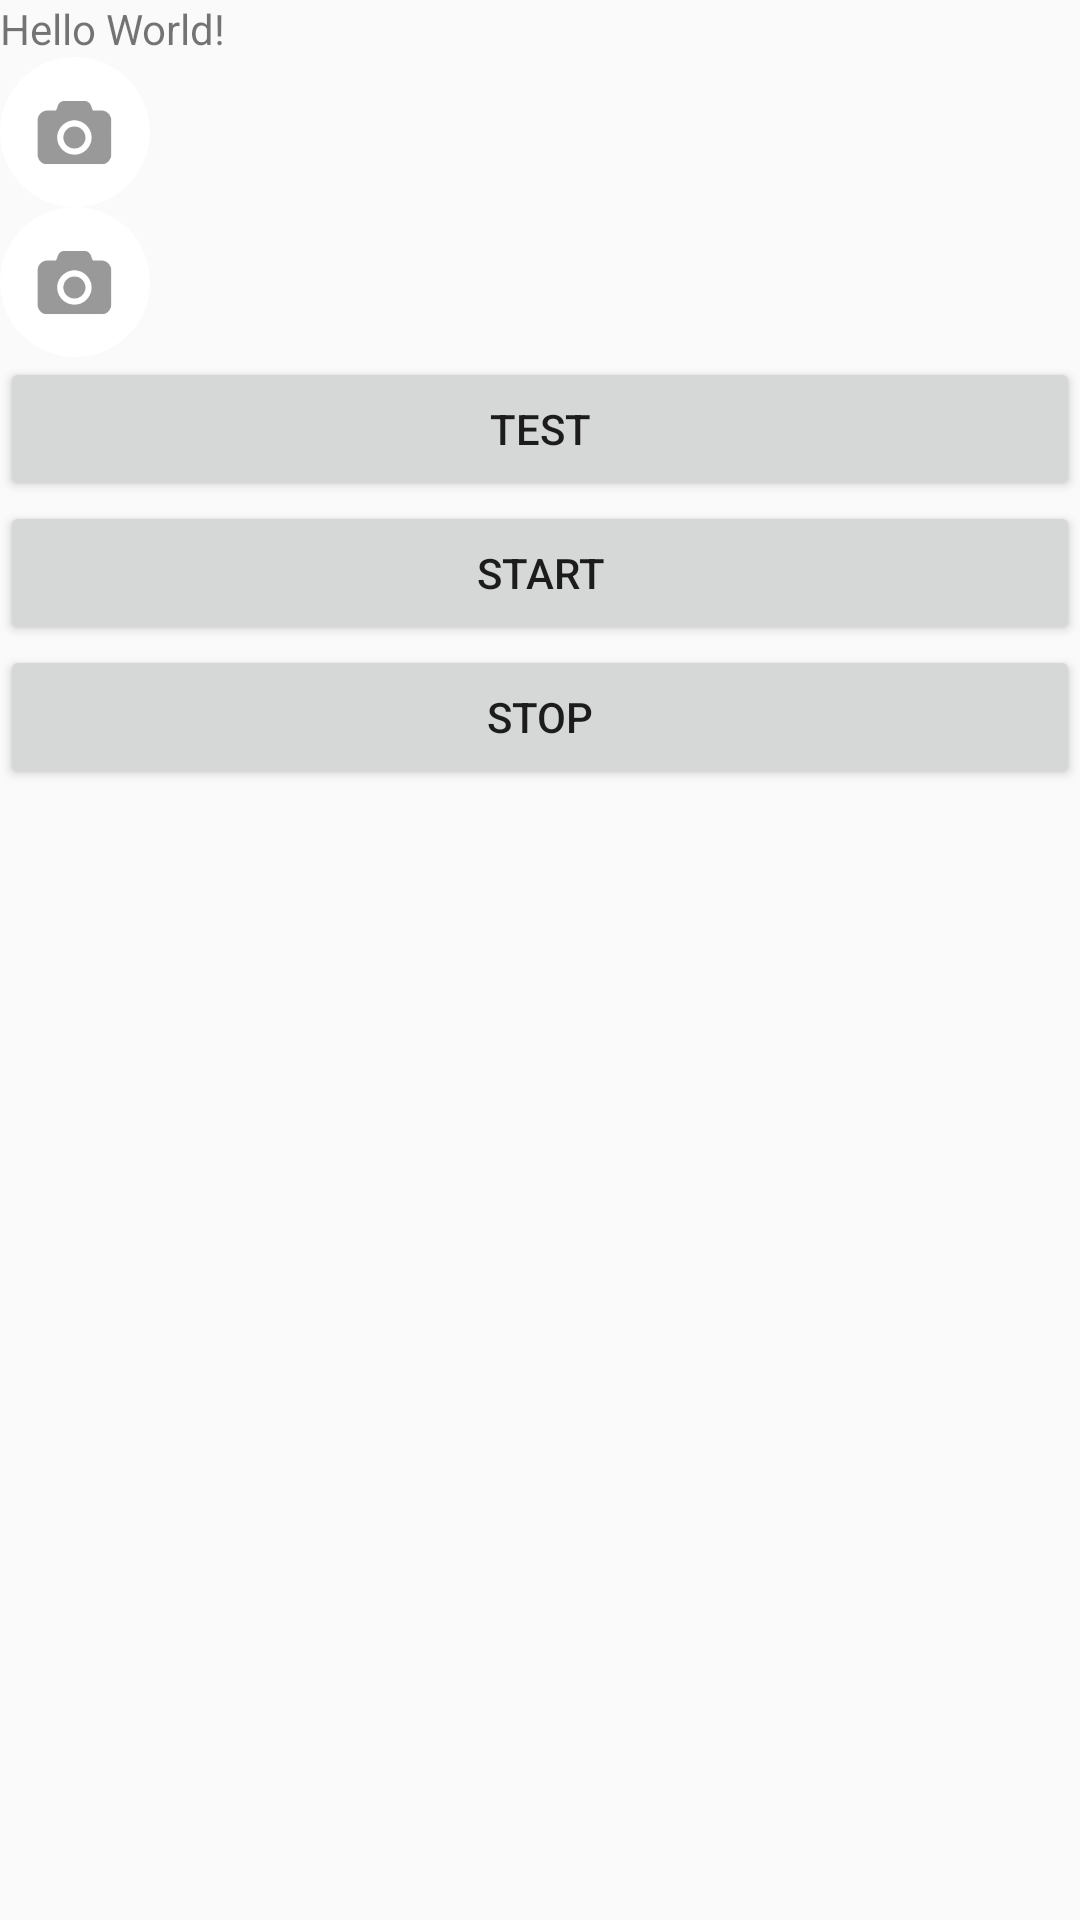

Icons on this 1080px×1920px Android screen, each with its box as (x1, y1, x2, y2):
repeat take photo: (37, 101, 111, 164), (37, 251, 111, 314)
